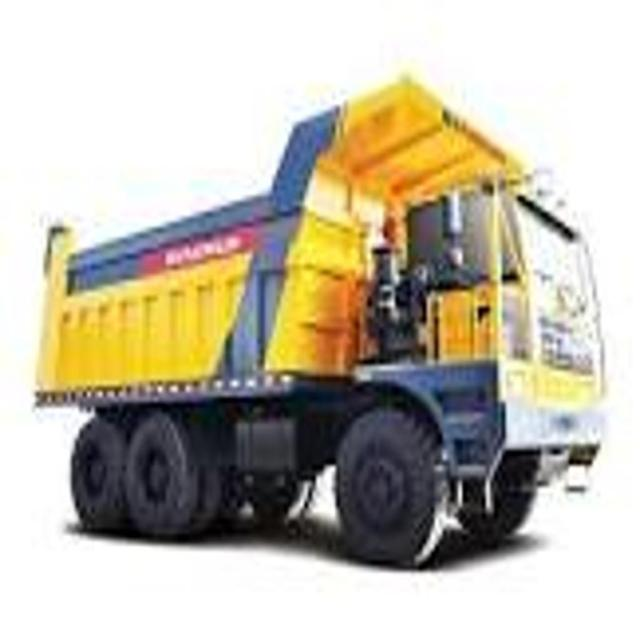dump_truck: (34, 70, 617, 589)
